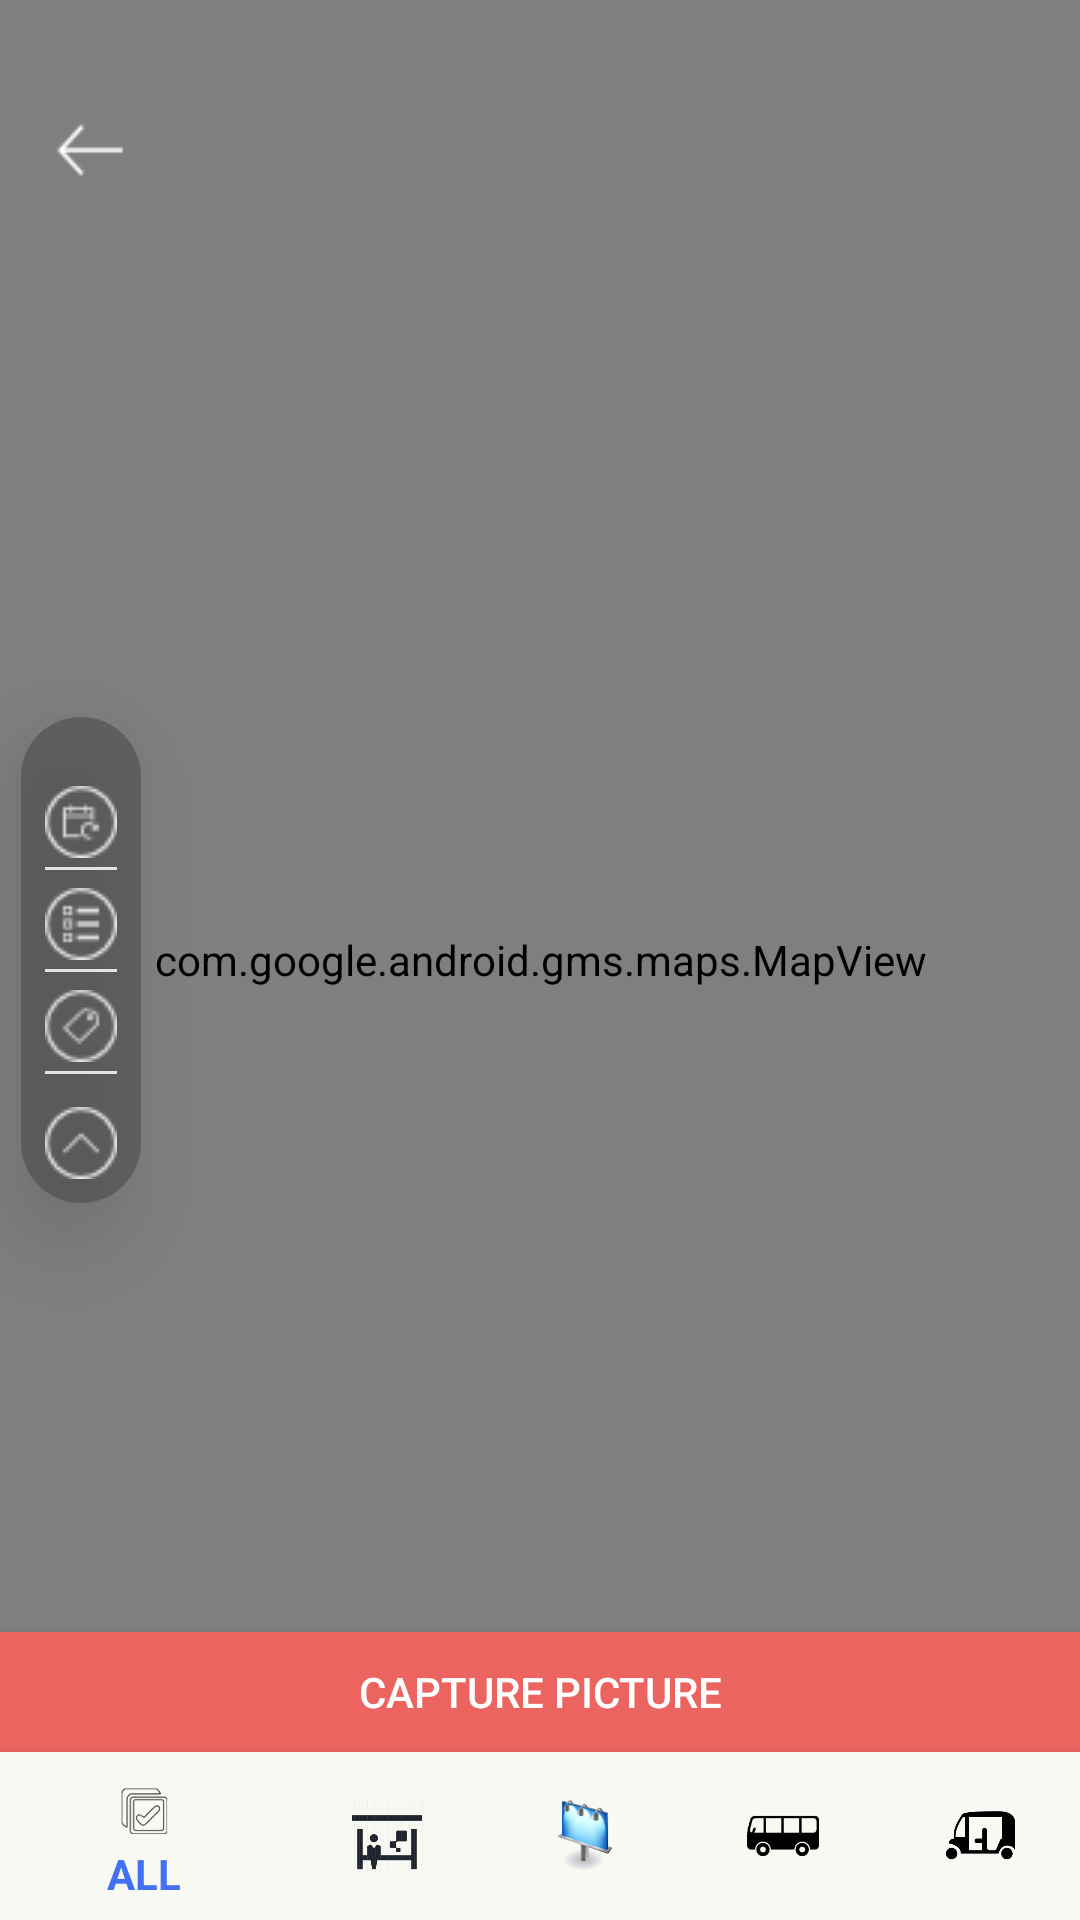

Where to tap for icons on this 1080w x 1920h app screen, as (x=x, y=y):
arrowback: (x=90, y=150)
calender: (x=81, y=828)
tag: (x=81, y=1032)
